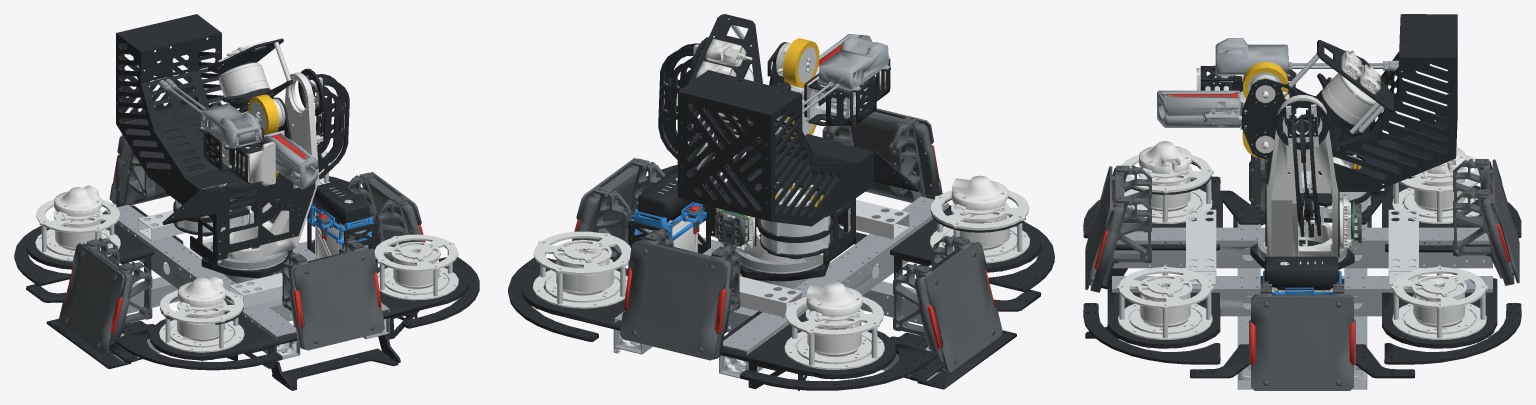
File: sentry.glb
3 renders of one model, left to right at view 1: azimuth 30°, elevation 25°; view 2: azimuth 150°, elevation 25°; view 3: azimuth 270°, elevation 25°, orthographic. The views are drawn at different scales.
Visible parts, largest first — view 1: Sentry; view 2: Sentry; view 3: Sentry.
Boxes of the visible parts, x1=… form: Sentry: x1=14, y1=14, x2=479, y2=390; Sentry: x1=508, y1=14, x2=1054, y2=390; Sentry: x1=1083, y1=14, x2=1521, y2=390.
Size of the model in its own units: 0.82 by 0.5774 by 0.82.
